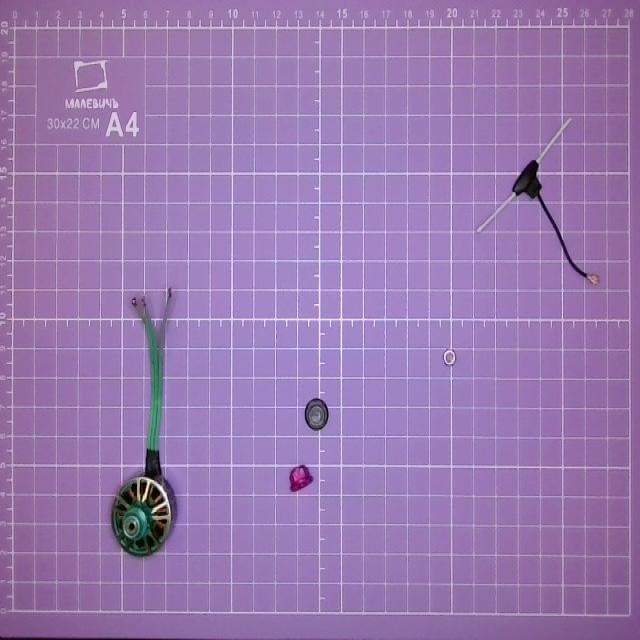antenna: (478, 117, 598, 286)
motor: (114, 275, 182, 558)
screw_M3: (441, 344, 457, 369)
screw_M5: (301, 392, 332, 440), (287, 461, 315, 493)
